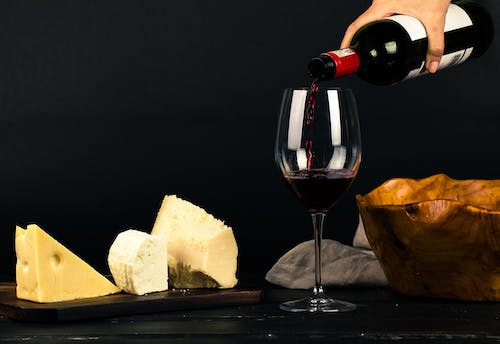alcohol: (272, 84, 363, 314), (305, 0, 495, 88)
